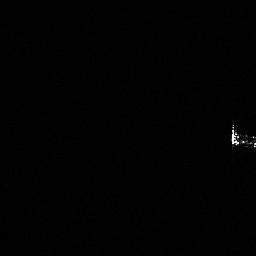ship: (230, 122, 256, 148)
